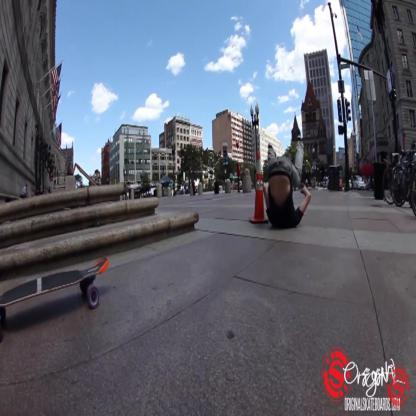Fall_Down: (262, 134, 312, 235)
